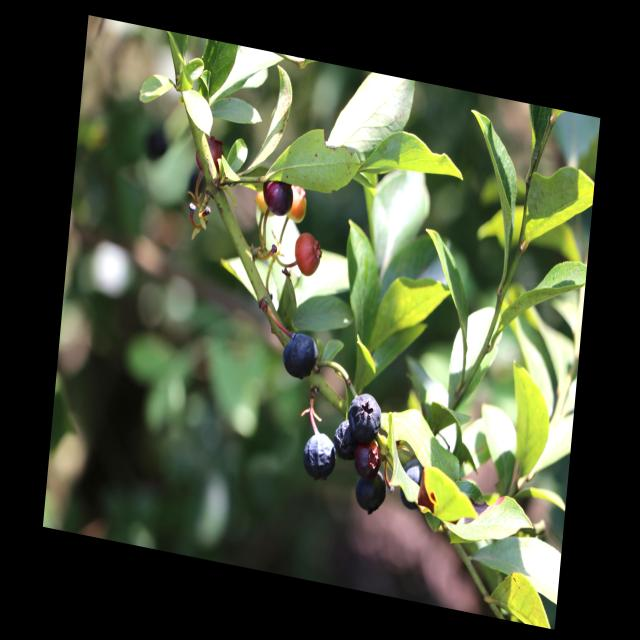blueberry: (278, 328, 320, 383), (354, 462, 390, 518), (301, 426, 339, 479), (258, 170, 296, 220), (348, 387, 384, 439)
blueberry-halfripe: (292, 227, 328, 282), (353, 432, 387, 479), (191, 131, 224, 179), (285, 181, 310, 226)
